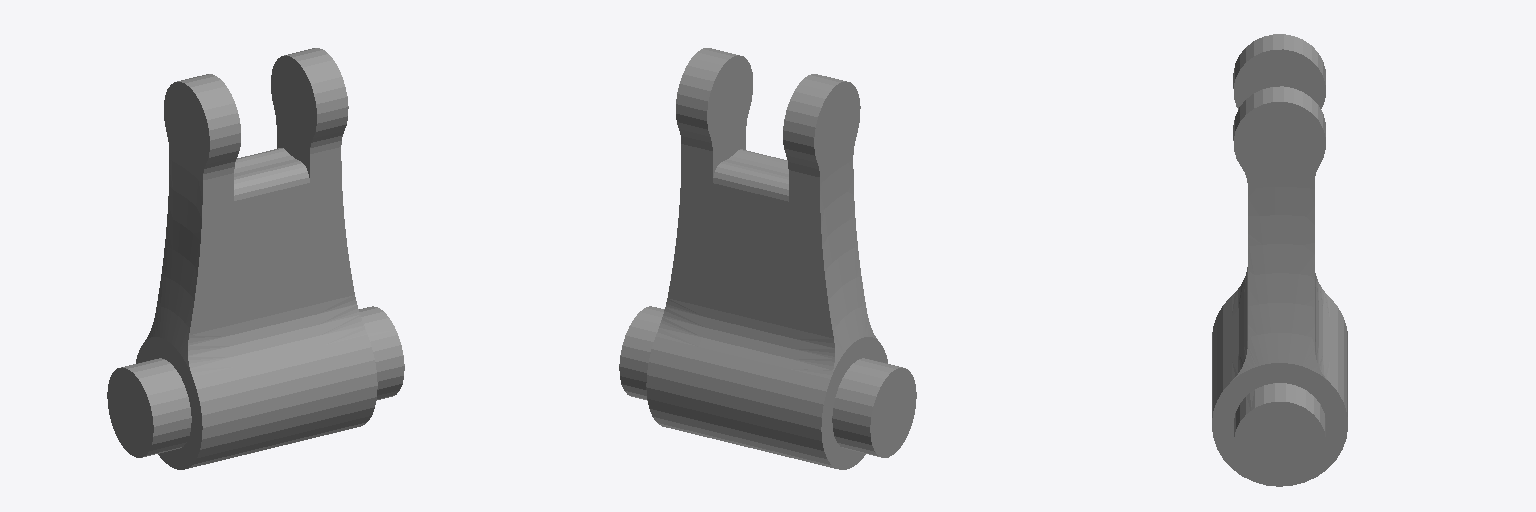
Rendered from bucket_linkage_1.obj.
The picture shows the model from 3 angles: view 1: azimuth 30°, elevation 25°; view 2: azimuth 150°, elevation 25°; view 3: azimuth 270°, elevation 25°; orthographic projection.
Parts seen in each view (by area): view 1: mesh_1_bucket_linkage_1; view 2: mesh_1_bucket_linkage_1; view 3: mesh_1_bucket_linkage_1.
Boxes of the visible parts, box(x1,y1,x2,y2) form: mesh_1_bucket_linkage_1: box(107, 48, 404, 469); mesh_1_bucket_linkage_1: box(619, 48, 916, 469); mesh_1_bucket_linkage_1: box(1212, 34, 1347, 486).
Bounding box in the file's own units: 0.5305 × 0.7597 × 0.25.